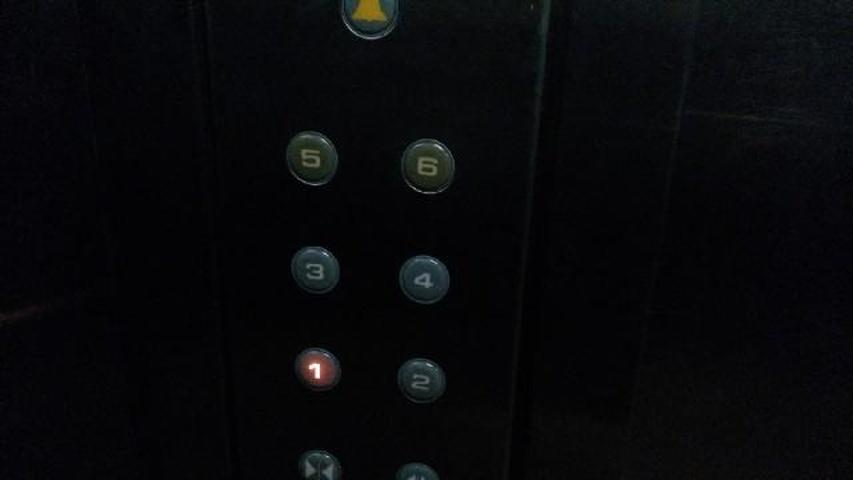1: (290, 342, 344, 393)
2: (393, 353, 447, 405)
3: (291, 242, 340, 293)
4: (398, 250, 451, 306)
5: (284, 128, 338, 186)
6: (398, 135, 455, 195)
close: (296, 446, 342, 479)
